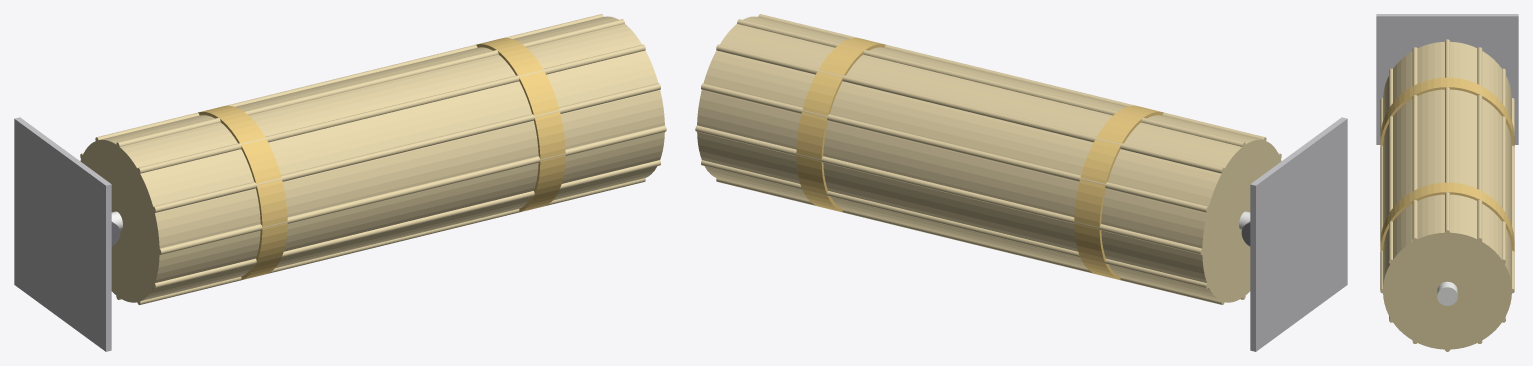
The model's file is power16_mesh_antenna_xl.glb.
3 views of the same model, side by side, from view 1: azimuth 30°, elevation 25°; view 2: azimuth 150°, elevation 25°; view 3: azimuth 270°, elevation 25° (orthographic). The views are drawn at different scales.
Parts seen in each view (by area): view 1: stowed_bundle, mount, launch_restraints; view 2: stowed_bundle, mount, launch_restraints; view 3: stowed_bundle, mount, launch_restraints, feed.
Part boxes in pixels (x1,y1,x2,y2): stowed_bundle: (80,14,666,304); mount: (14,117,111,351); launch_restraints: (198,38,565,280); stowed_bundle: (695,14,1281,304); mount: (1250,117,1347,351); launch_restraints: (796,38,1163,280); stowed_bundle: (1380,39,1514,351); mount: (1376,14,1518,144); launch_restraints: (1380,77,1514,251); feed: (1437,281,1457,305).
Bounding box in the file's own units: 4 × 1.1 × 1.1.
